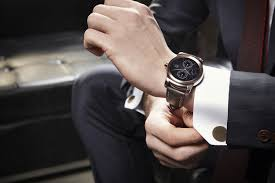clock: (168, 55, 202, 83)
